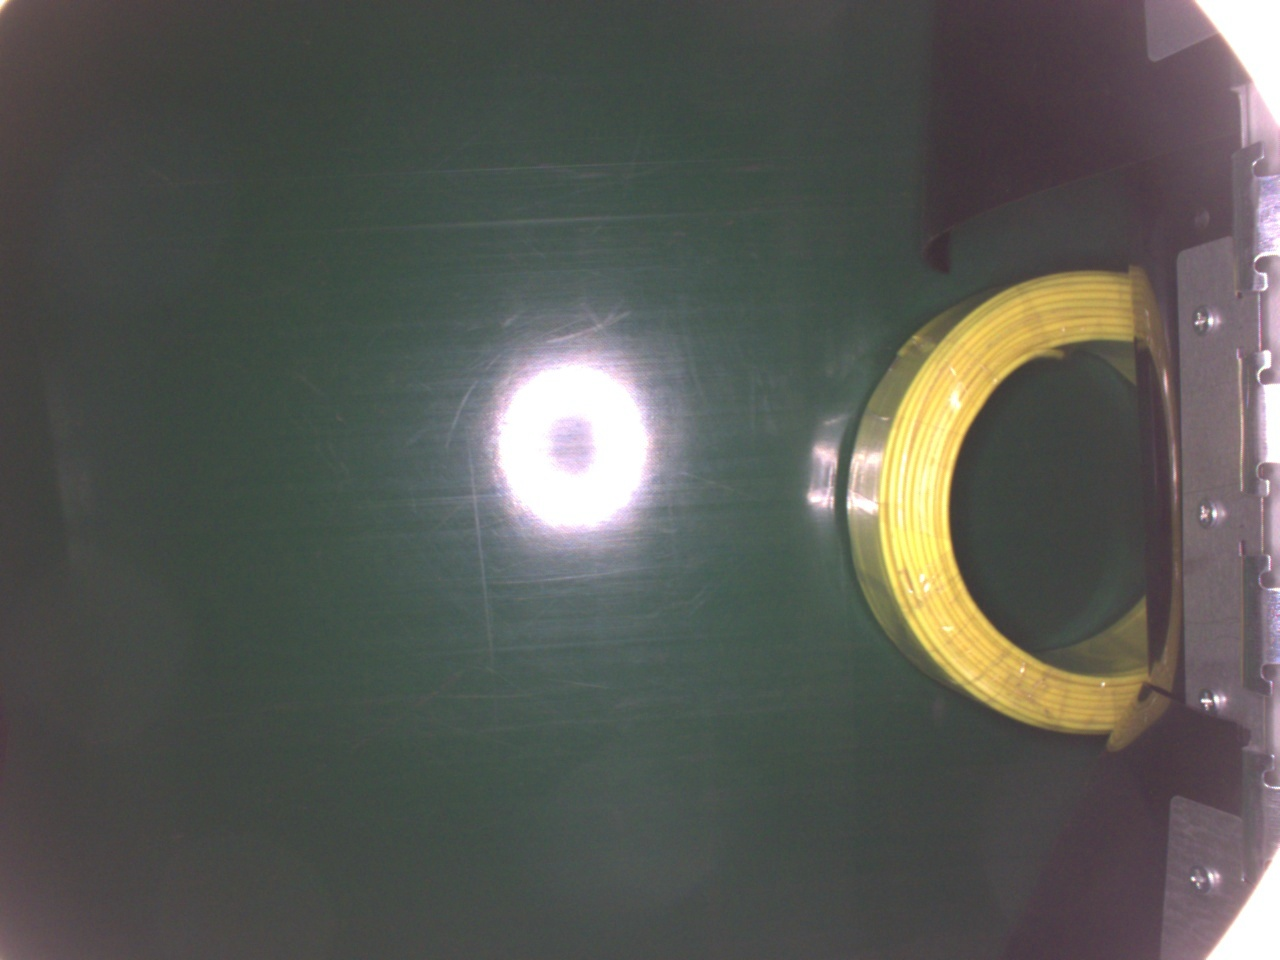yellow: (849, 266, 1137, 740)
